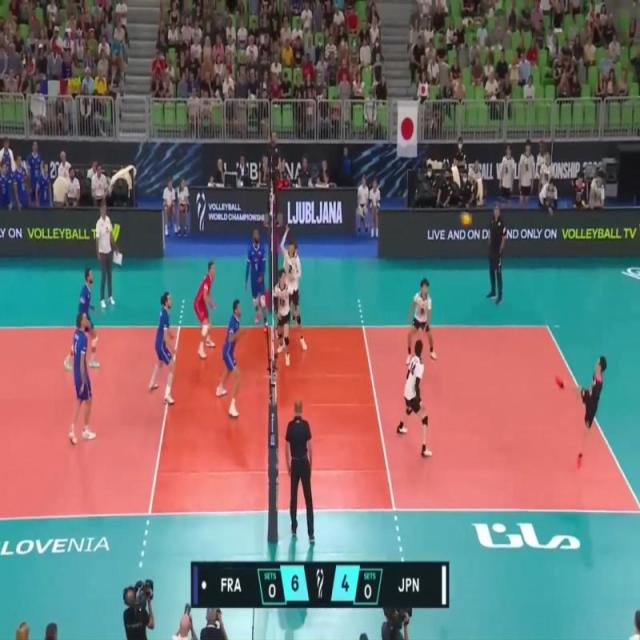volleyball: (462, 210, 471, 225)
